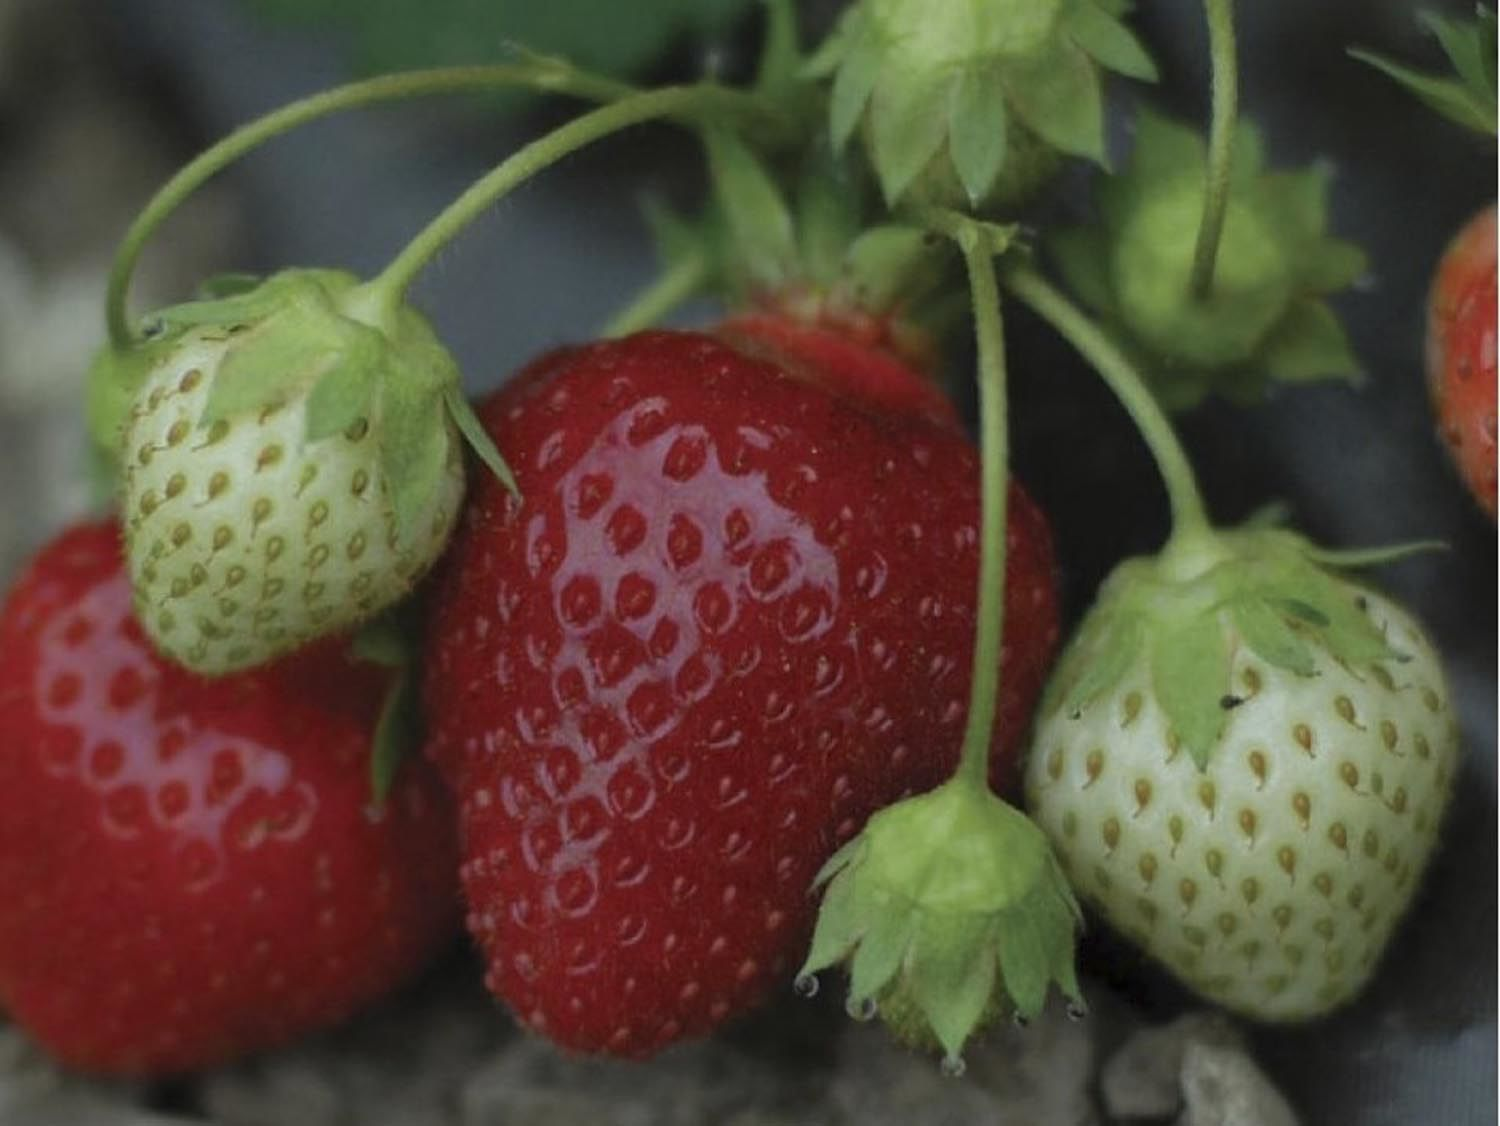ripe: (427, 336, 1082, 1072), (2, 491, 474, 1092)
unripe: (1024, 523, 1462, 1027), (118, 276, 503, 674), (799, 787, 1117, 1051), (1420, 173, 1496, 496)
